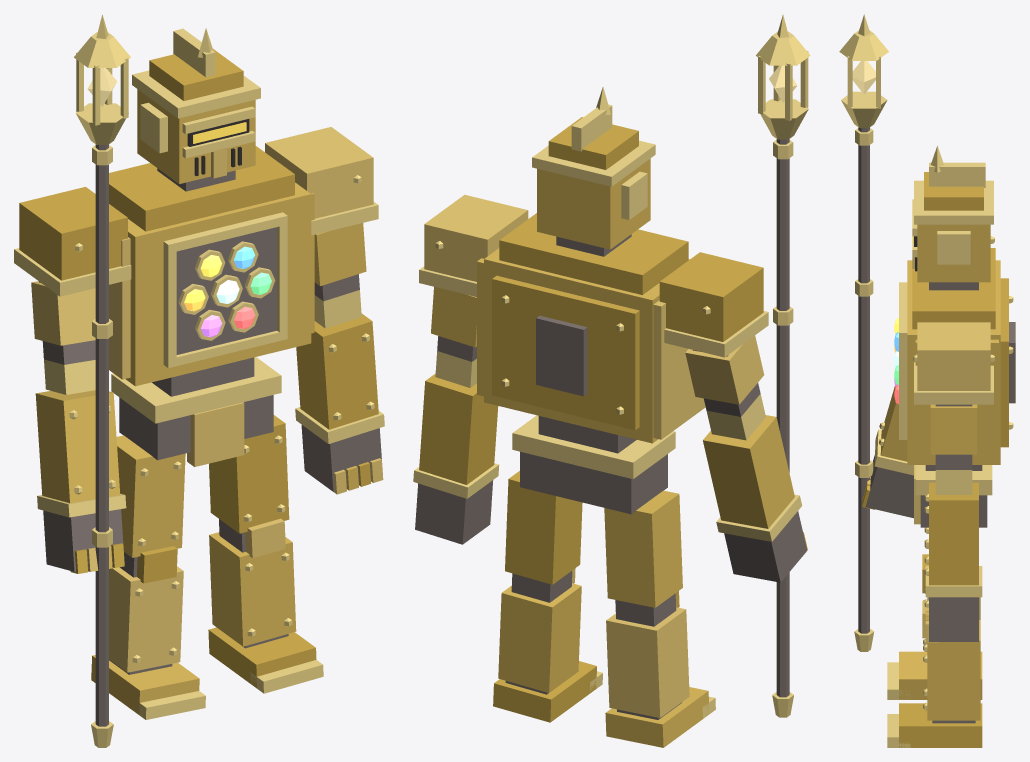
The model's file is examiner.glb.
3 renders of one model, left to right at view 1: azimuth 30°, elevation 25°; view 2: azimuth 150°, elevation 25°; view 3: azimuth 270°, elevation 25°, orthographic. The views are drawn at different scales.
Visible parts, largest first — view 1: examiner_0_mat_d08e1c, examiner_1_mat_f4c244, examiner_3_mat_b47612, examiner_2_mat_3a302c, examiner_4_mat_e2a42e, examiner_12_glow_060505; view 2: examiner_3_mat_b47612, examiner_0_mat_d08e1c, examiner_2_mat_3a302c, examiner_1_mat_f4c244, examiner_4_mat_e2a42e; view 3: examiner_0_mat_d08e1c, examiner_1_mat_f4c244, examiner_3_mat_b47612, examiner_2_mat_3a302c, examiner_4_mat_e2a42e, examiner_14_glow_ffd060.
Boxes of the visible parts, box(x1,y1,x2,y2) form: examiner_0_mat_d08e1c: box(35, 89, 366, 714); examiner_1_mat_f4c244: box(14, 14, 384, 747); examiner_3_mat_b47612: box(19, 49, 378, 688); examiner_2_mat_3a302c: box(39, 144, 381, 726); examiner_4_mat_e2a42e: box(31, 127, 383, 672); examiner_12_glow_060505: box(187, 119, 249, 176); examiner_3_mat_b47612: box(419, 117, 807, 722); examiner_0_mat_d08e1c: box(431, 158, 794, 747); examiner_2_mat_3a302c: box(415, 139, 807, 719); examiner_1_mat_f4c244: box(413, 14, 810, 718); examiner_4_mat_e2a42e: box(424, 194, 764, 717); examiner_0_mat_d08e1c: box(862, 224, 1000, 720); examiner_1_mat_f4c244: box(839, 14, 1013, 747); examiner_3_mat_b47612: box(862, 172, 1008, 747); examiner_2_mat_3a302c: box(858, 127, 1015, 723); examiner_4_mat_e2a42e: box(870, 257, 990, 642); examiner_14_glow_ffd060: box(852, 61, 875, 94).
Size of the model in its own units: 2.08 by 4.22 by 1.06.
